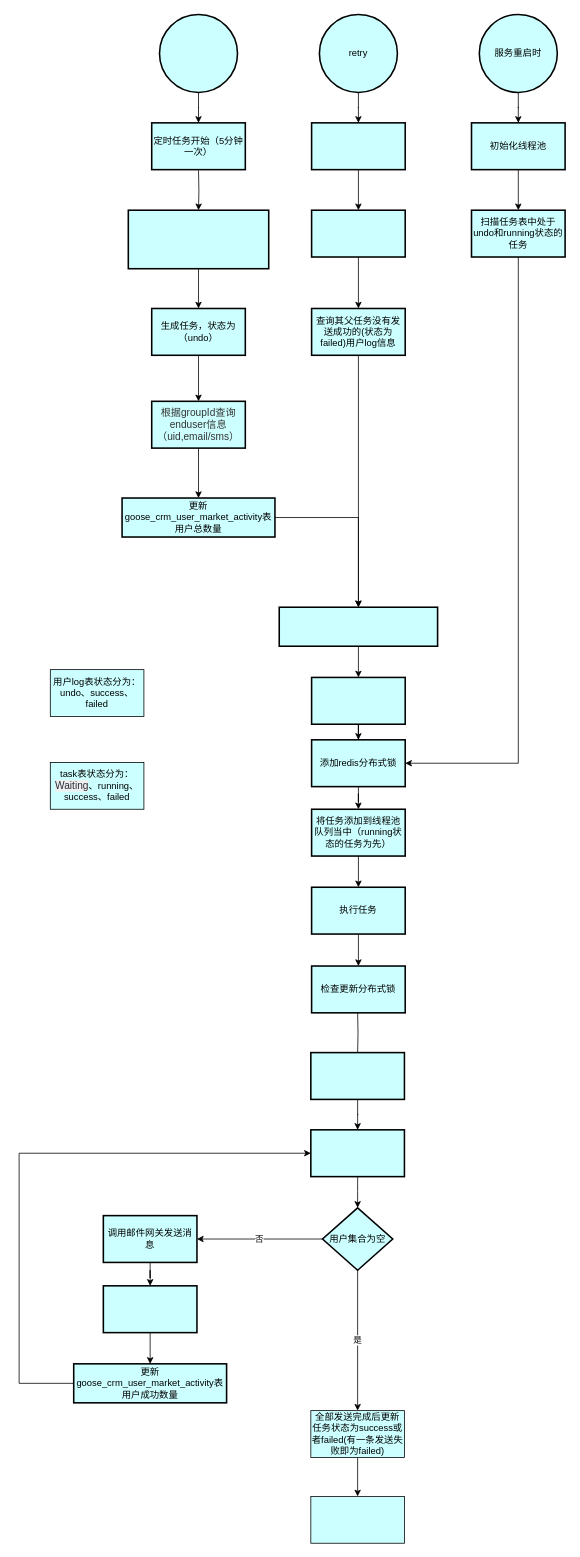
Some shapes in this 580 by 1557 pixel diagram are drawn without their labels. Here are the shapes that lost their labels. From the top down, the box of each, then its label:
(158, 13, 238, 93): portal 的xxlJob
(310, 122, 406, 170): 根据taskId生成任务，状态为（undo）
(127, 209, 269, 269): 扫描所有VNO DB中的goose_crm_user_market_activity表，获取达到了触发时间并且没有绑定任务的活动
(310, 209, 406, 257): 更新taskId的子任务为当前任务
(278, 606, 438, 647): 更新goose_crm_user_market_activity表用绑定的任务ID
(310, 676, 406, 725): 将用户信息分批添加到log表中（状态为undo）
(310, 1051, 405, 1100): 修改任务状态为running
(310, 1129, 405, 1177): 根据任务ID去其对应的用户log表中分批查询状态为undo的用户
(102, 1285, 197, 1333): 将消息发送结果更新到用户日志表中
(310, 1496, 404, 1543): 释放redis分布式锁
